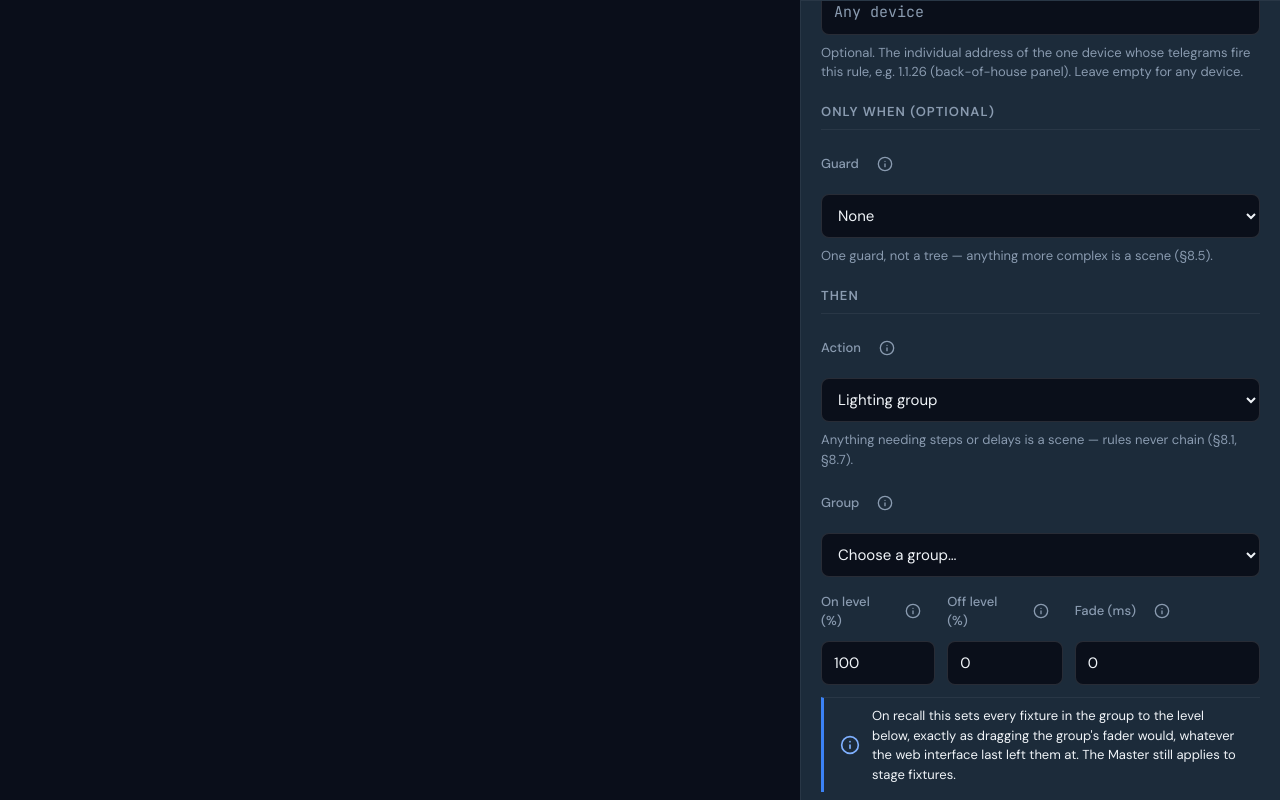
it: RuleEditor › explains that notify is a log-only alert until email arrives
(page scrolled)
Select "Notify" in the dropdown labelled "Action" at (1040,400), box 821,378 -> 1260,422
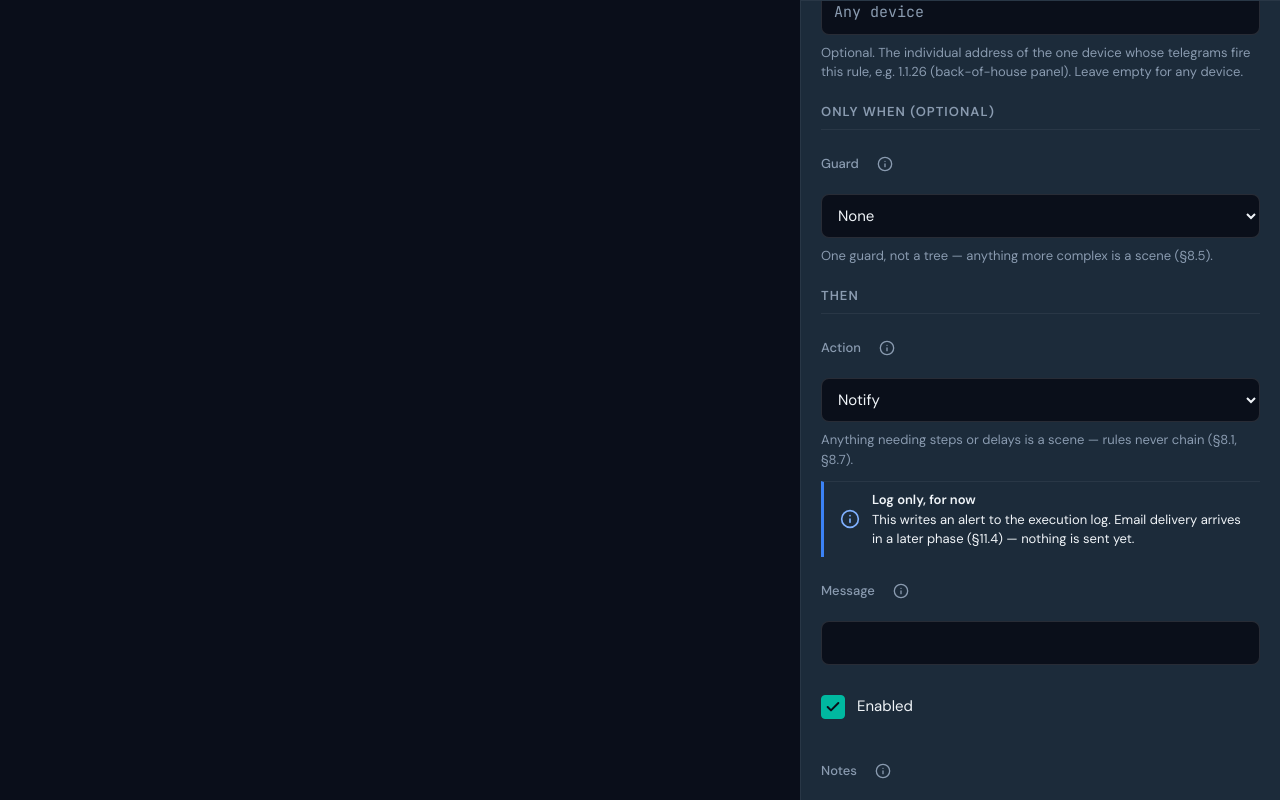
Result: the text "Email delivery arrives in a later phase" is shown at 872,510 -> 1241,547
